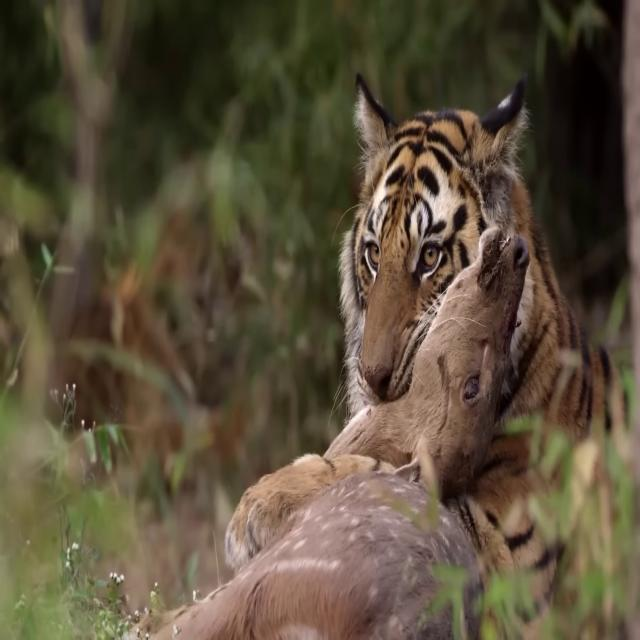tiger: (226, 69, 640, 639)
